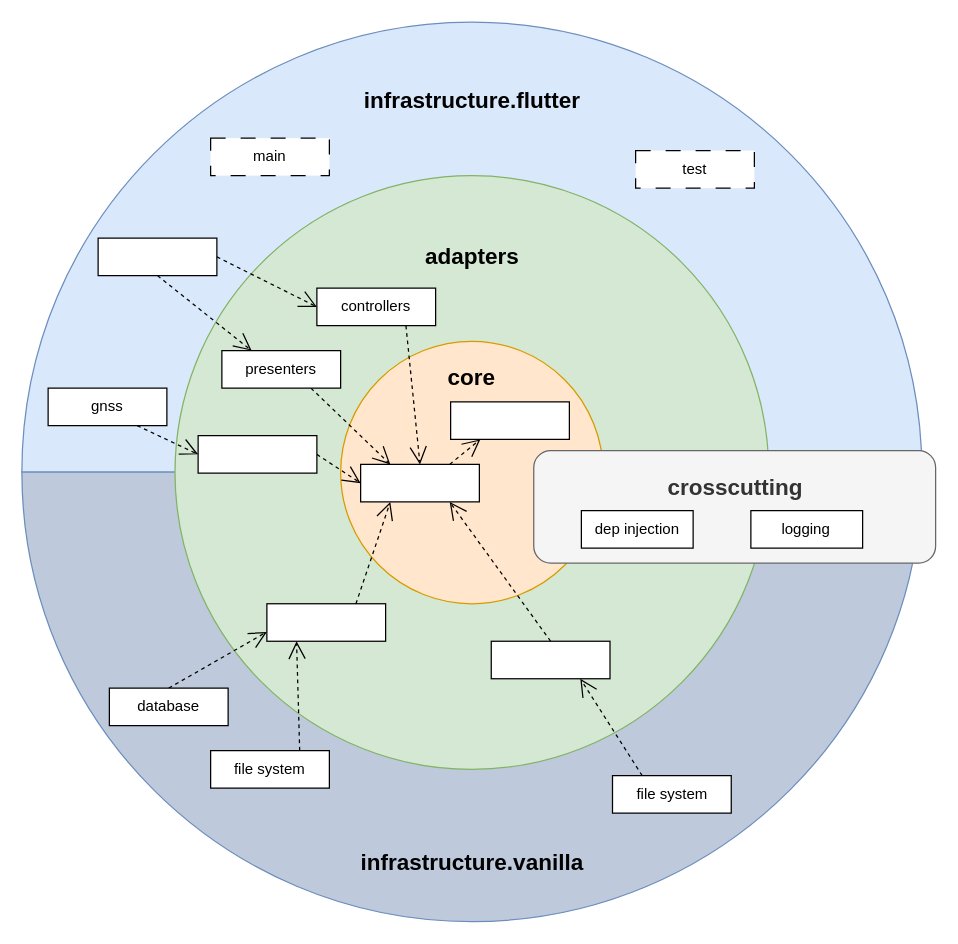
Image size: 958x944. Some labels were removed from this diagram. Here are the shapes that lost their labels. From the top down, the centre of each, then its label:
point 157,256: ui
point 509,420: entities
point 257,453: positioning
point 419,482: usecases
point 326,621: storage
point 550,659: dataexchange
